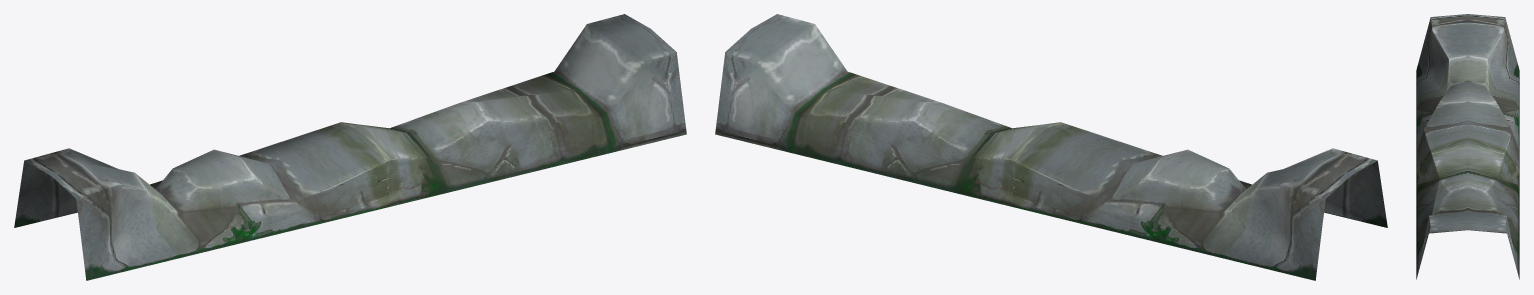
Rendered from stemple_cap_secret_01.fbx.
The picture shows the model from 3 angles, left to right: view 1: azimuth 30°, elevation 25°; view 2: azimuth 150°, elevation 25°; view 3: azimuth 270°, elevation 25°; orthographic projection. The views are drawn at different scales.
Parts seen in each view (by area): view 1: sunken_tileset/sunken_quarter03_mat; view 2: sunken_tileset/sunken_quarter03_mat; view 3: sunken_tileset/sunken_quarter03_mat.
Boxes of the visible parts, x1,y1,x2,y2 form: sunken_tileset/sunken_quarter03_mat: (14, 14, 686, 280); sunken_tileset/sunken_quarter03_mat: (715, 14, 1387, 280); sunken_tileset/sunken_quarter03_mat: (1416, 14, 1519, 279).
Size of the model in its own units: 4 by 0.5245 by 0.8328.
